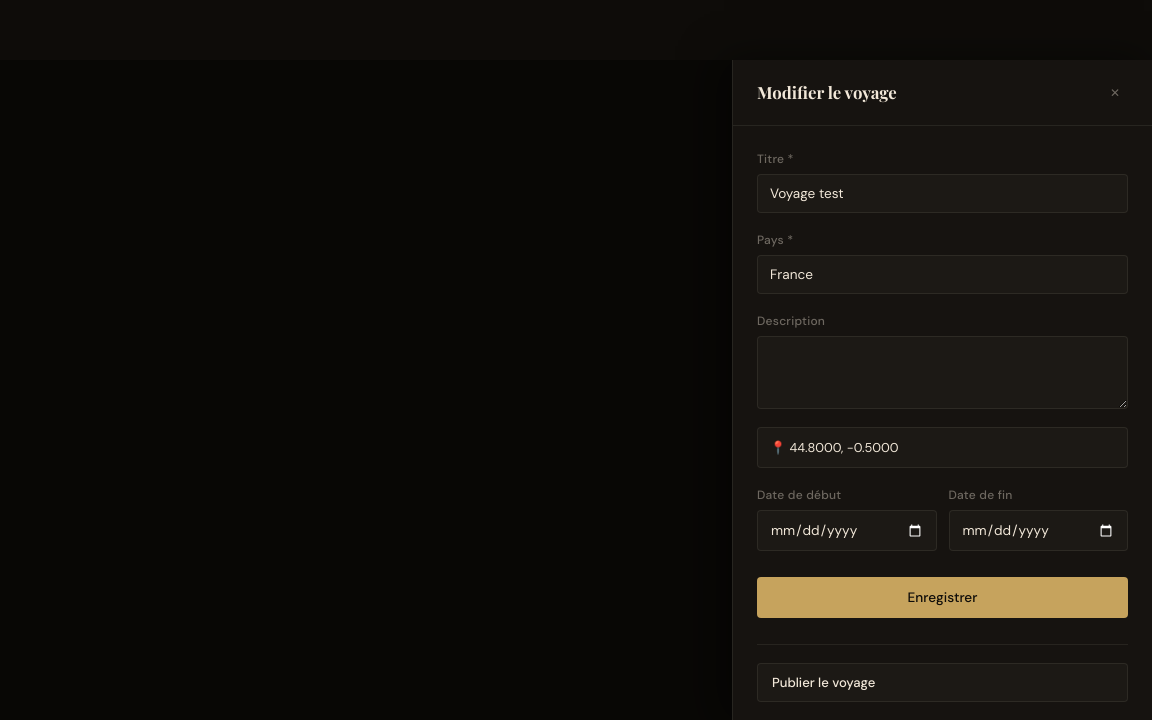
TripForm lifecycle actions › displays errors returned by an async action and keeps the form open
Click the button "Publier le voyage": point(824, 683) x1=757 y1=663 x2=1128 y2=702
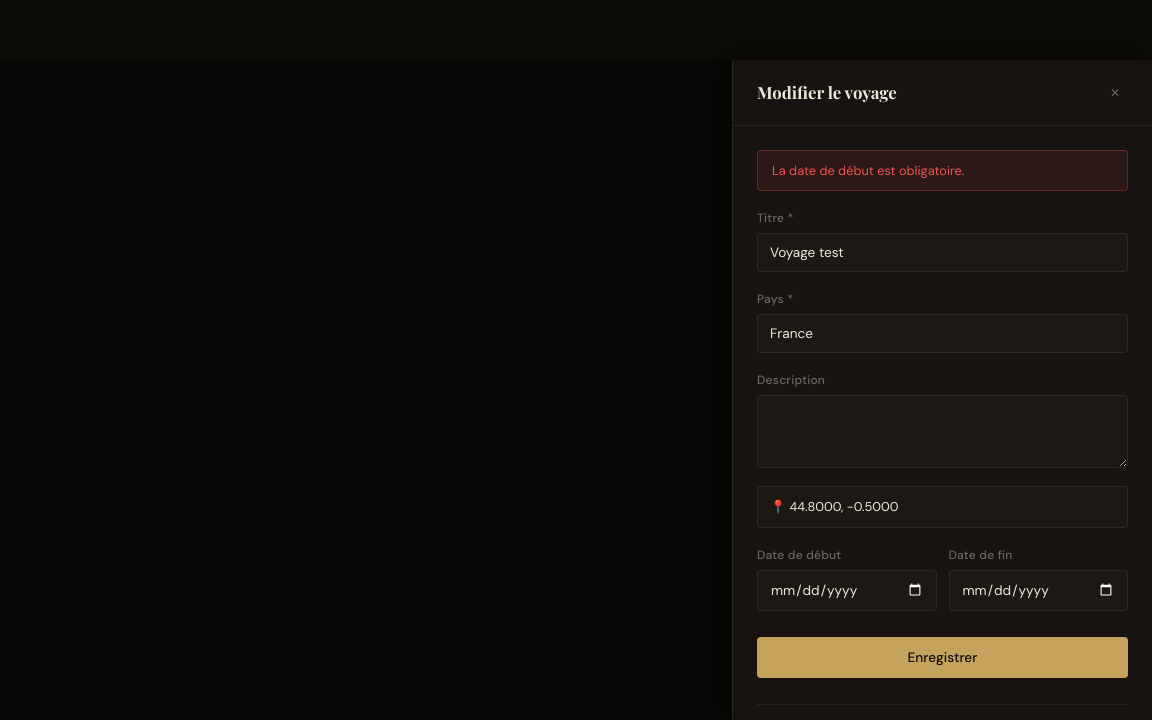
Expected: the field showing "Voyage test" is shown, x1=757 y1=233 x2=1128 y2=272
Result: the text "La date de début est obligatoire." is shown at x1=772 y1=162 x2=964 y2=179
